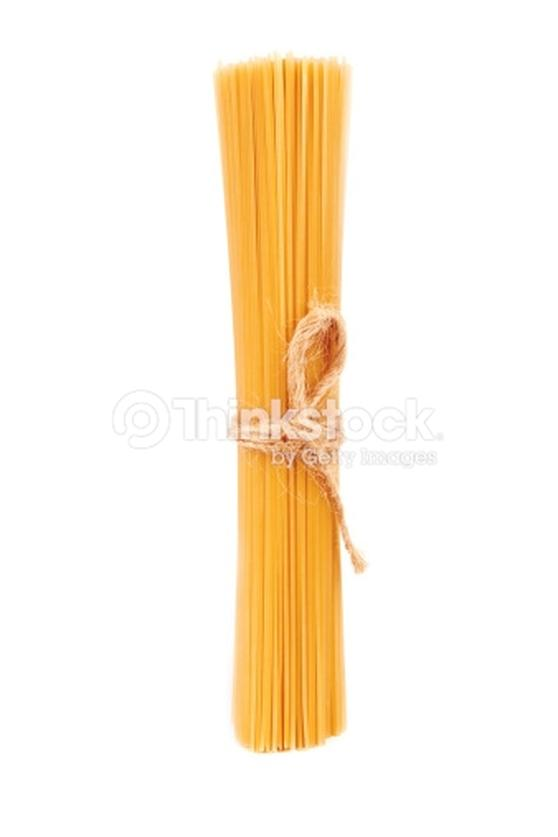spaghetti: (214, 56, 368, 756)
